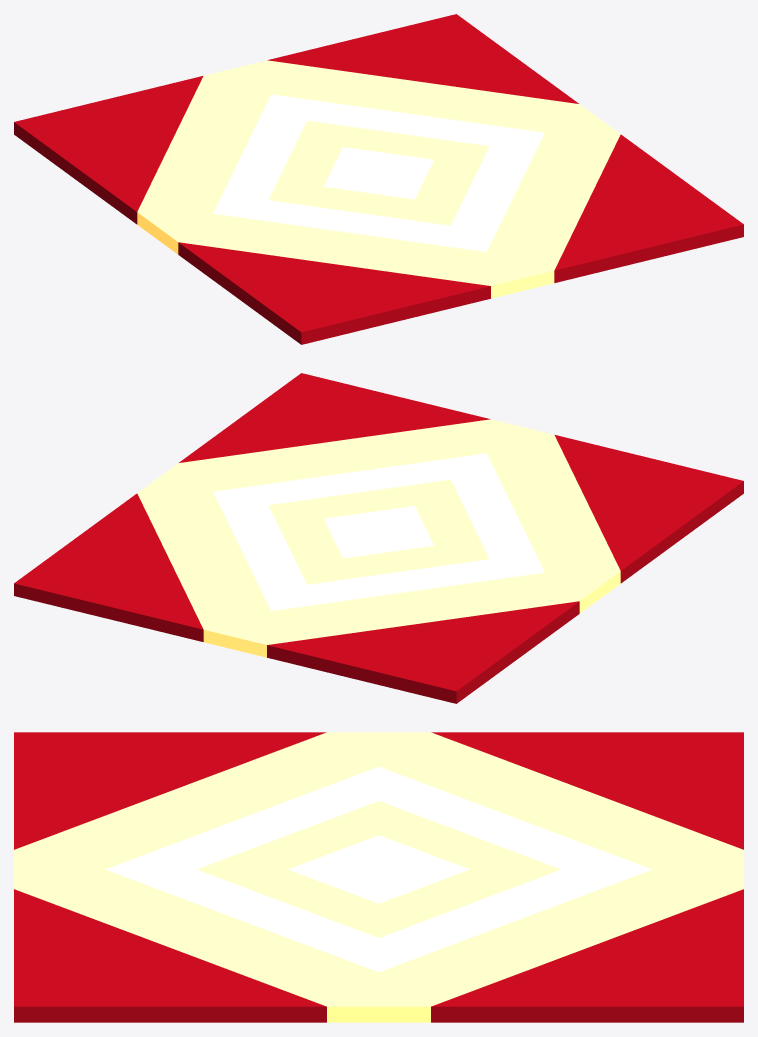
The model's file is Glisse.fbx.
3 views of the same model, one above another, from view 1: azimuth 30°, elevation 25°; view 2: azimuth 150°, elevation 25°; view 3: azimuth 270°, elevation 25° (orthographic). The views are drawn at different scales.
Parts seen in each view (by area): view 1: Box002; view 2: Box002; view 3: Box002.
Boxes of the visible parts, x1,y1,x2,y2 form: Box002: (14, 14, 743, 344); Box002: (14, 373, 743, 703); Box002: (14, 732, 743, 1022).
Bounding box in the file's own units: 12215 × 332 × 13742.
